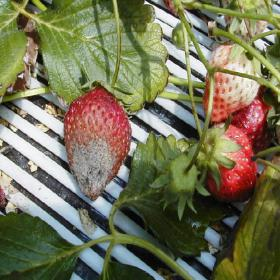Gray Mold: (64, 114, 133, 202)
